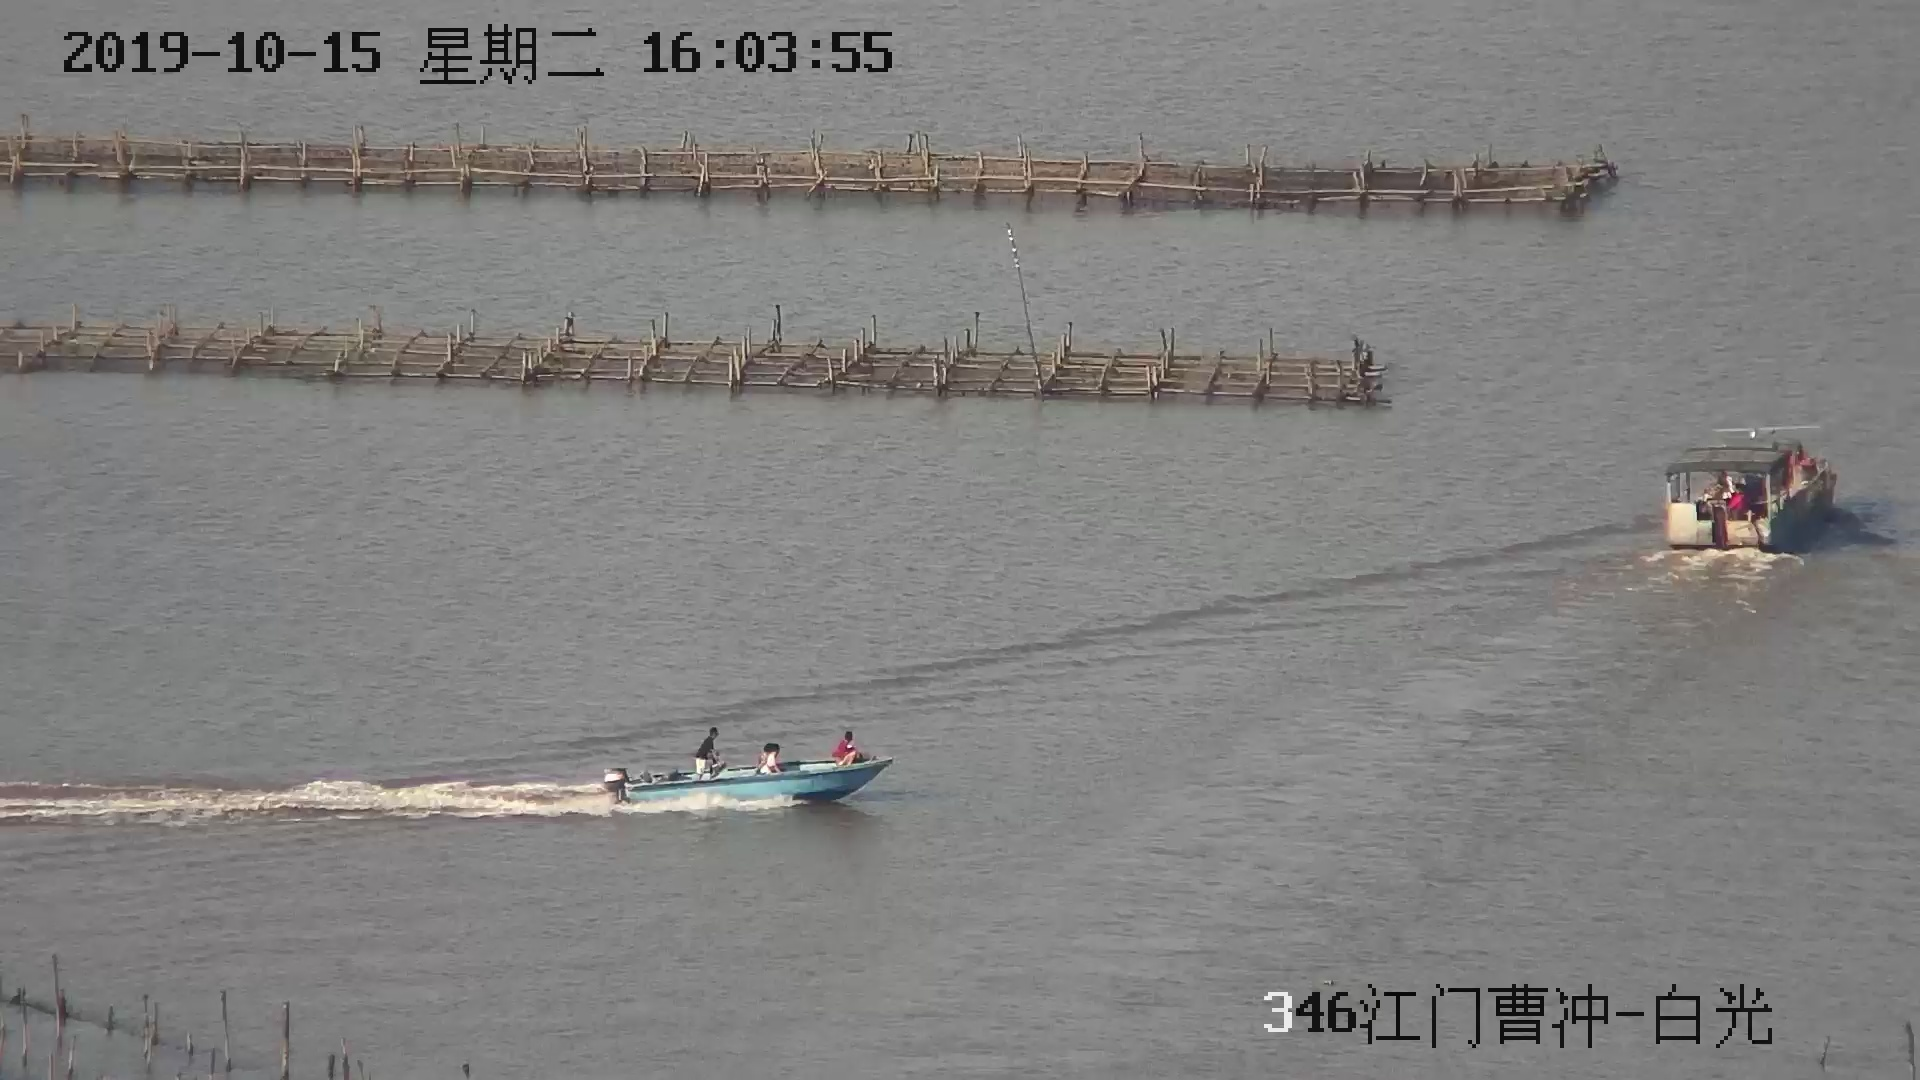ship: (597, 717, 897, 810), (1658, 429, 1844, 559), (505, 316, 651, 392)
